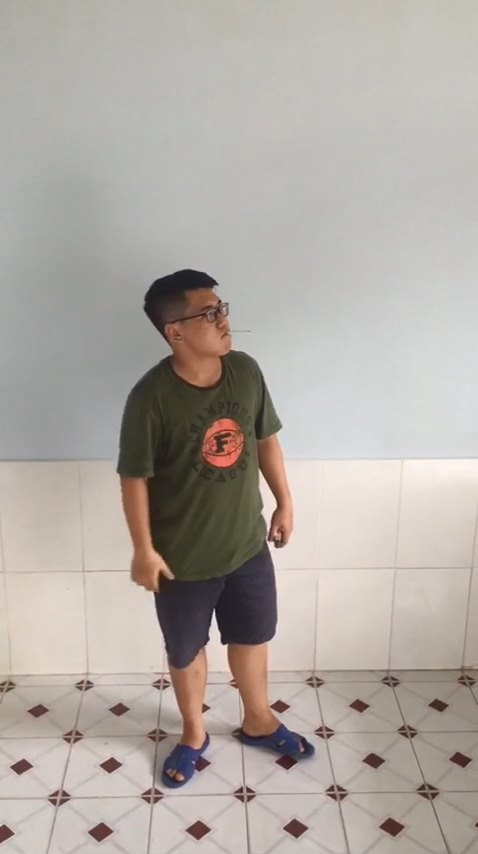cigarette: (223, 320, 256, 339)
person: (110, 260, 332, 792)
